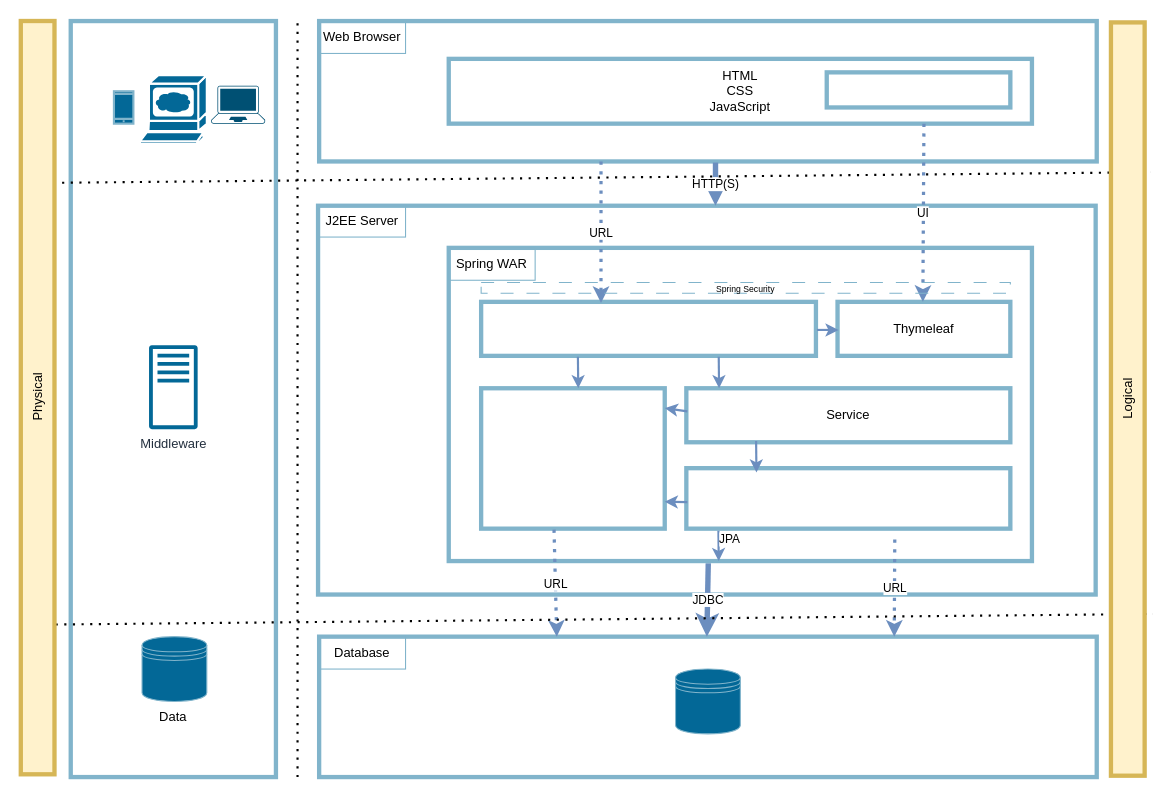
This 1174x798 diagram has some shape labels left out. Each missing label, with the centre of its shape:
Bootstrap 5: point 918,89
Client: point 172,109
Controller: point 648,328
Model: point 572,458
Repository: point 848,497
